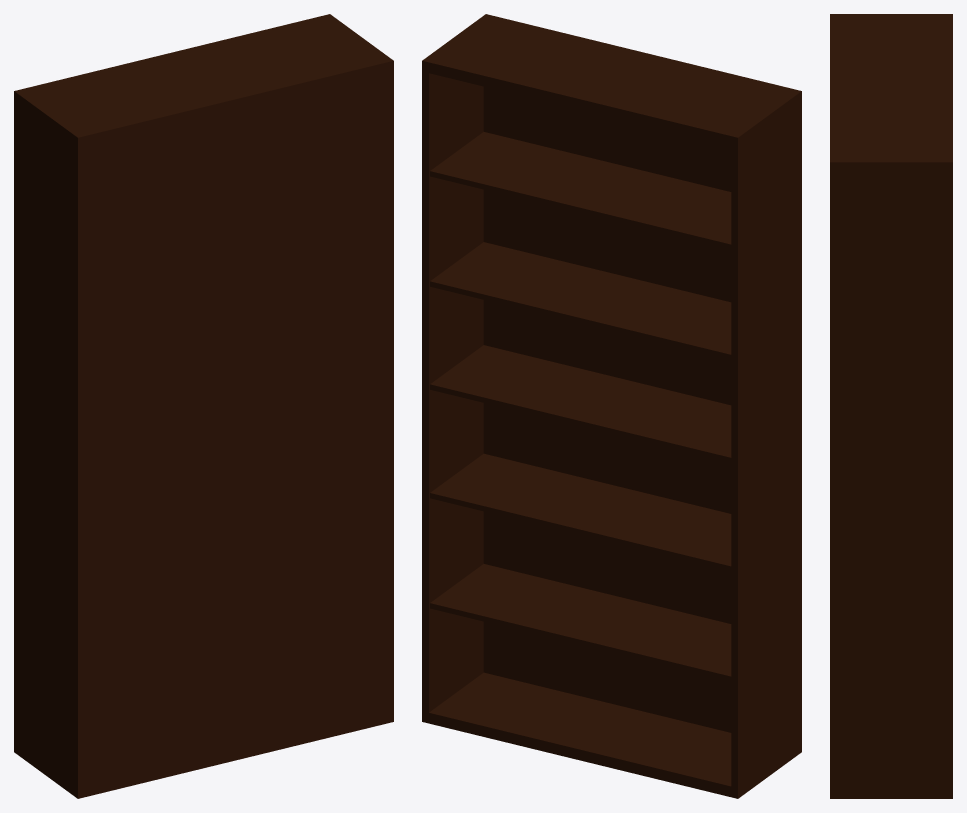
The model's file is SM_Estanteria.fbx.
The picture shows the model from 3 angles, left to right: view 1: azimuth 30°, elevation 25°; view 2: azimuth 150°, elevation 25°; view 3: azimuth 270°, elevation 25°; orthographic projection. The views are drawn at different scales.
Visible parts, largest first — view 1: estantería; view 2: estantería; view 3: estantería.
Boxes of the visible parts, x1,y1,x2,y2 form: estantería: [14, 14, 393, 798]; estantería: [422, 14, 801, 798]; estantería: [830, 14, 952, 798].
Size of the model in its own units: 100 by 200 by 35.
